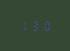one: (18, 20, 28, 31)
three: (30, 20, 40, 31)
zero: (41, 20, 51, 31)
